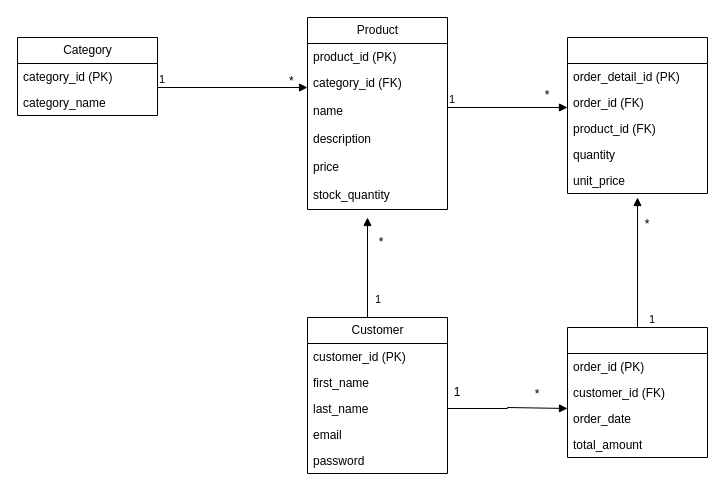
Image size: 725x494. Some labels were removed from this diagram. Each missing label, with the box of its shape:
Order_details: (566, 36, 708, 194)
Orders: (566, 326, 708, 458)
